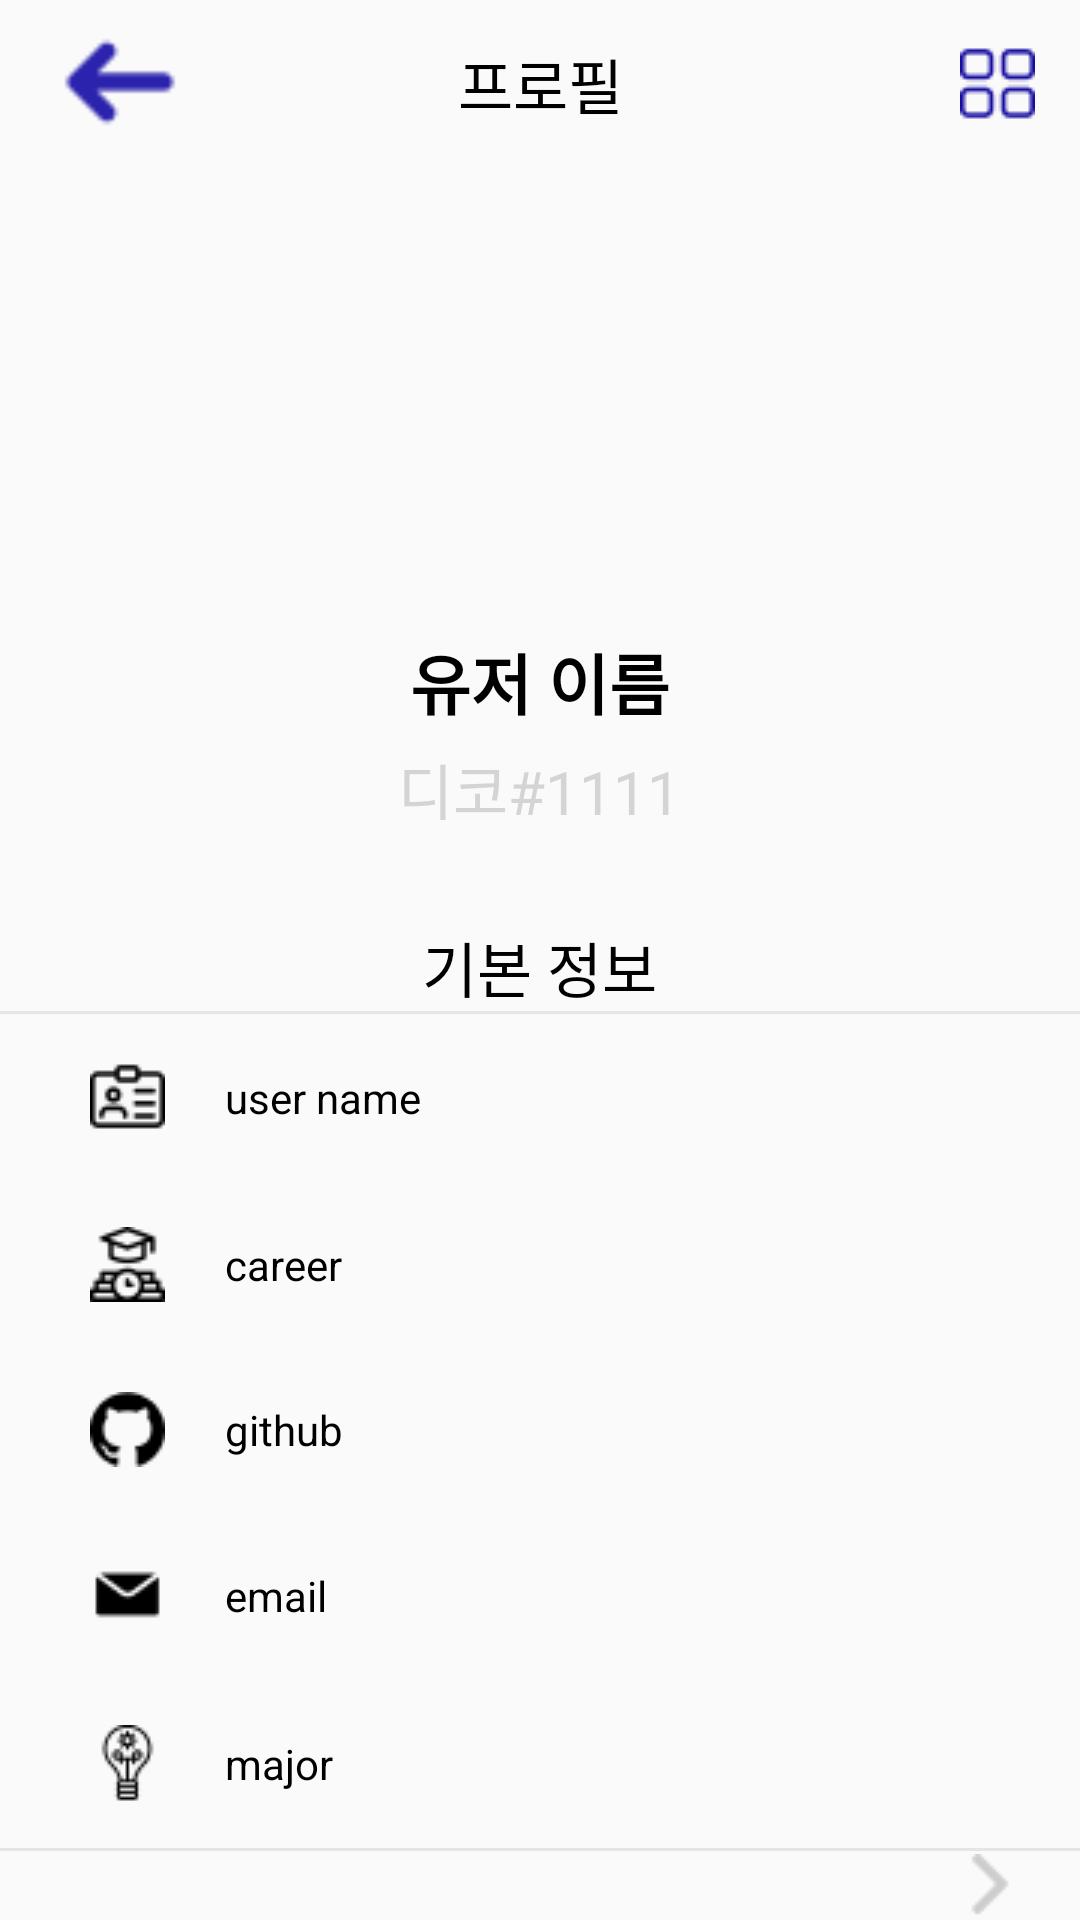

Screen size 1080x1920. Icon name, then its center in pixels as (x,y):
arrow right: (989,1884)
back arrow: (120,82)
menu: (997,83)
